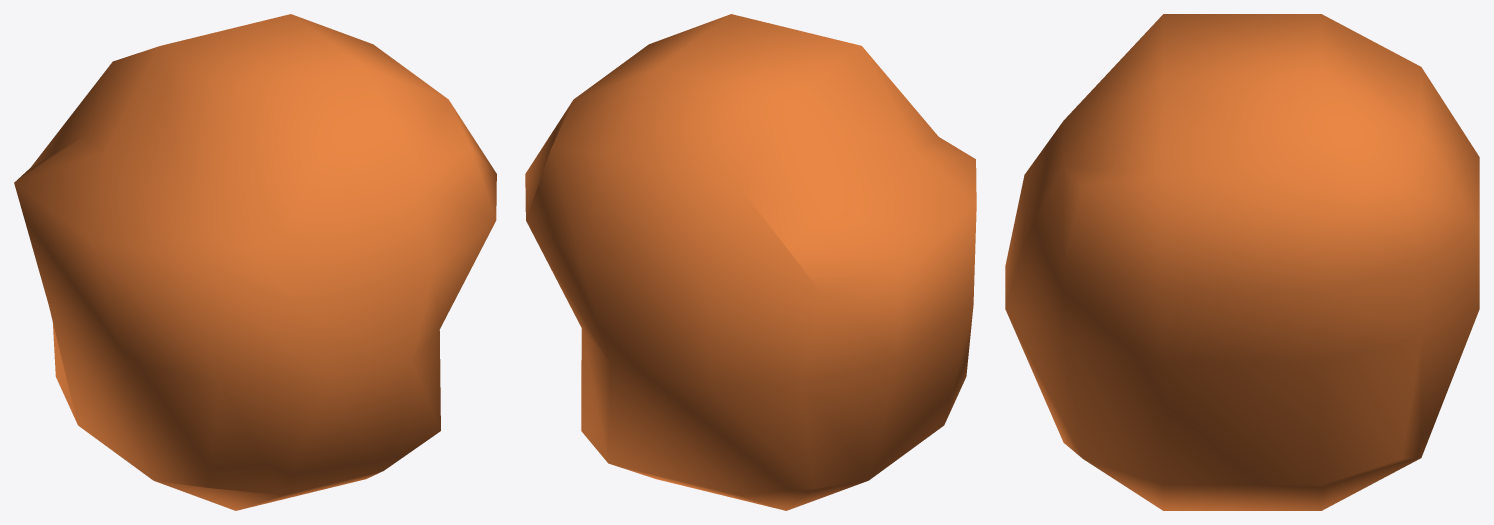
Rendered from Copper Ore.fbx.
3 views of the same model, side by side, from view 1: azimuth 30°, elevation 25°; view 2: azimuth 150°, elevation 25°; view 3: azimuth 270°, elevation 25° (orthographic). The views are drawn at different scales.
Parts seen in each view (by area): view 1: Cube; view 2: Cube; view 3: Cube.
Boxes of the visible parts, x1=… form: Cube: x1=14, y1=14, x2=496, y2=510; Cube: x1=525, y1=14, x2=976, y2=510; Cube: x1=1005, y1=14, x2=1479, y2=510.
Size of the model in its own units: 1.25 by 1.25 by 1.25.
